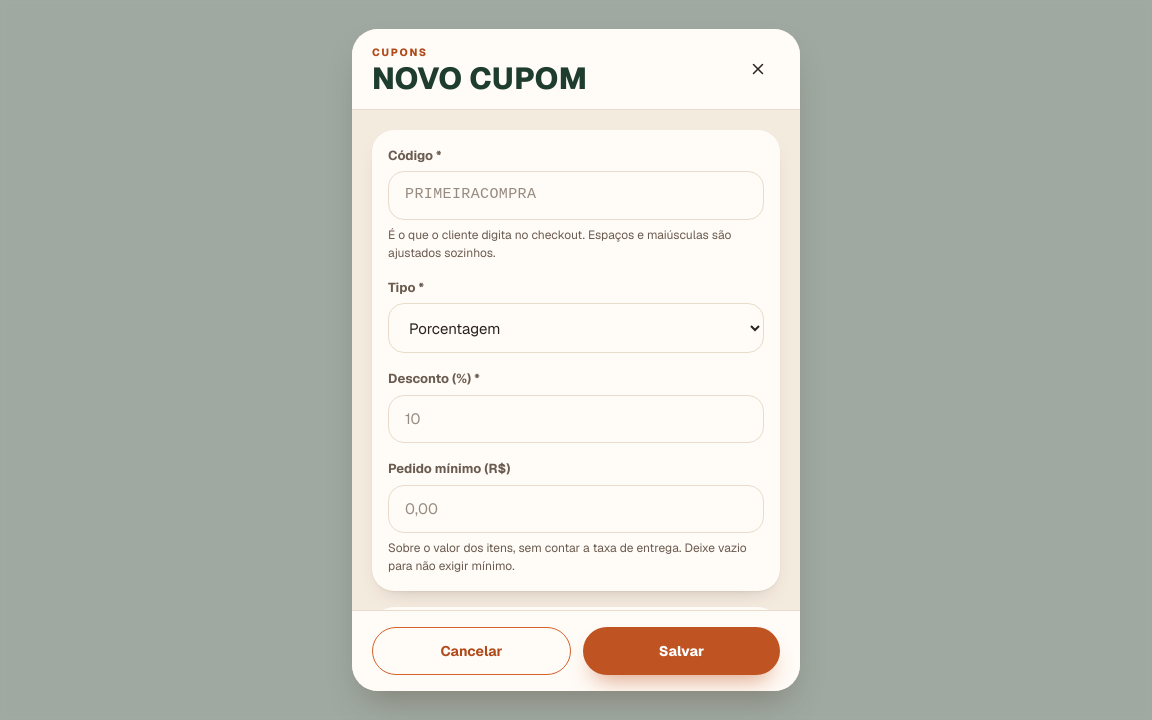
Test: validação › recusa porcentagem acima de 100
Type "PROMO" into the field with placeholder "PRIMEIRACOMPRA" at (576, 195), box 388,171 -> 764,220
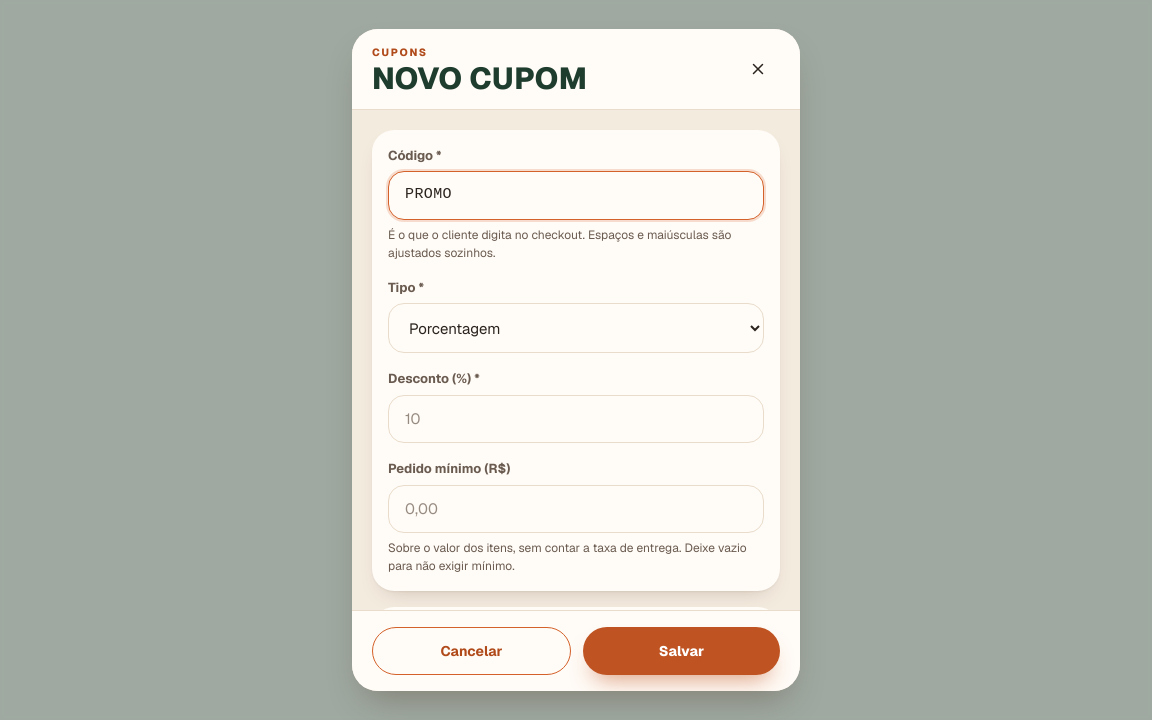
Type "150" into the number field with placeholder "10" at (576, 419), box 388,394 -> 764,443
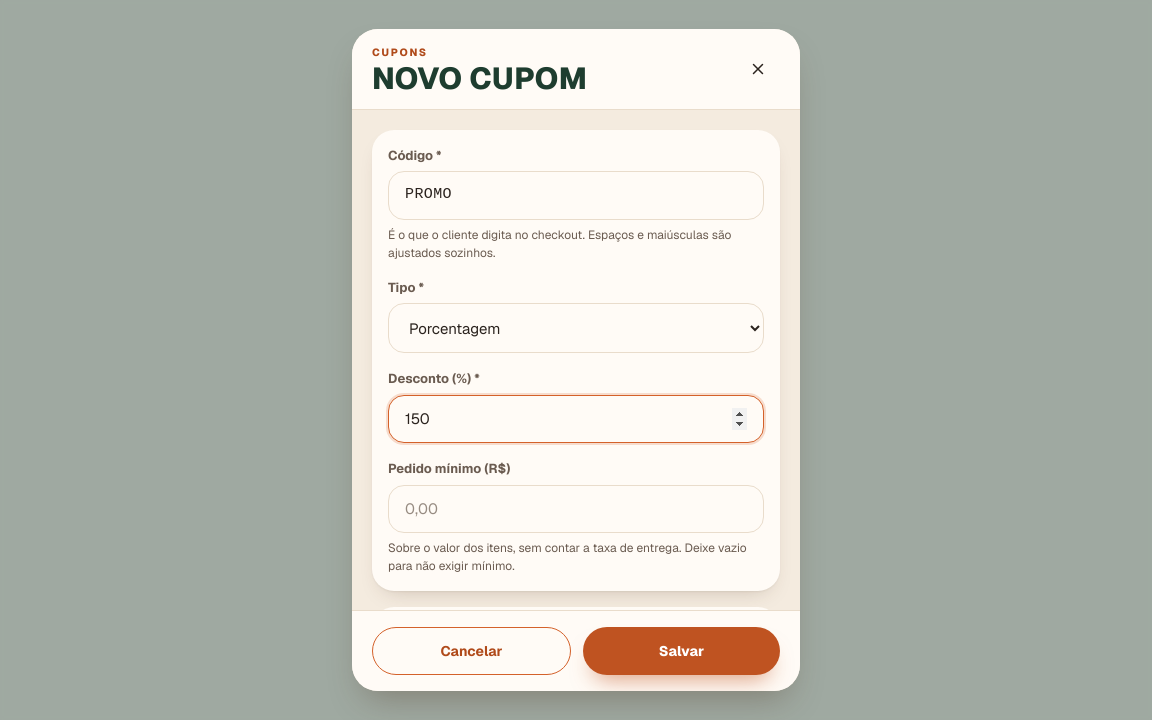
Click the button "Salvar" at (682, 651), box 583,627 -> 780,675
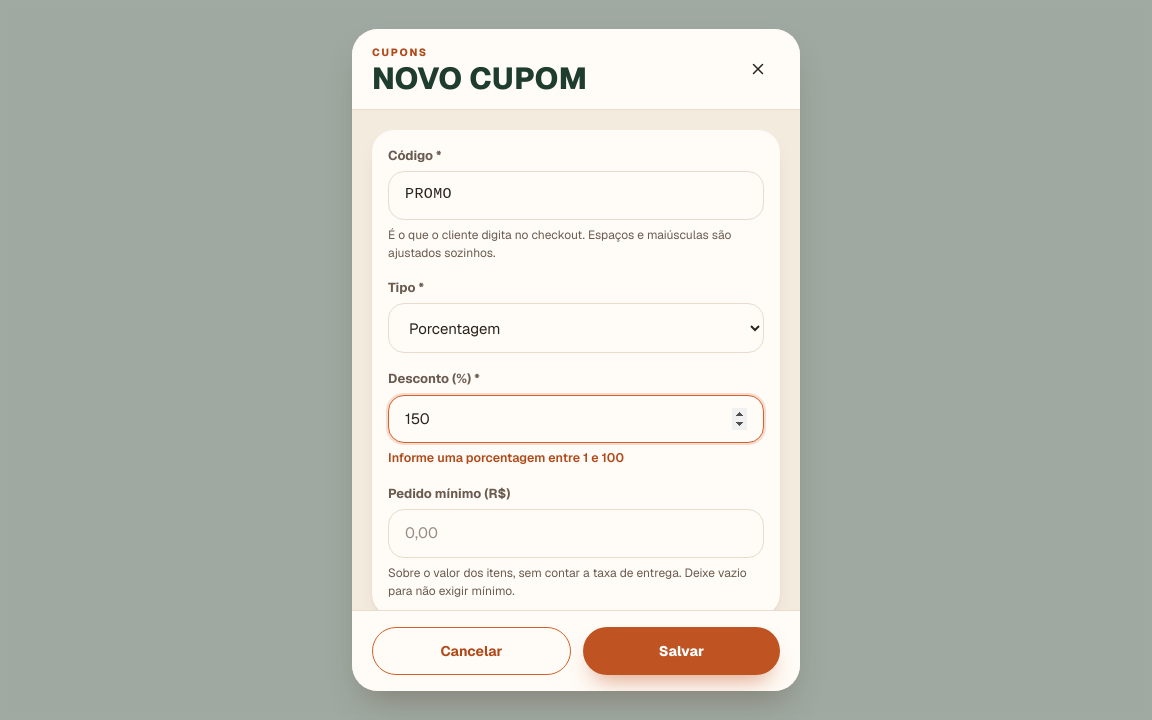
Expected: the text "Informe uma porcentagem entre 1 e 100" is shown, 388,449 -> 624,466
